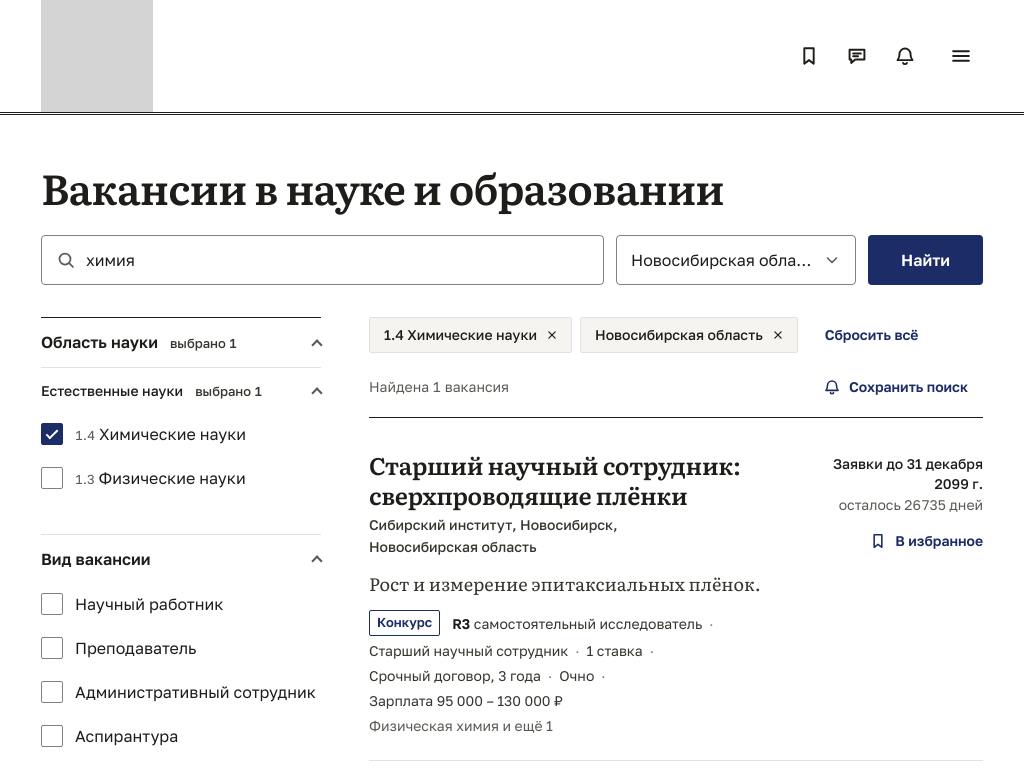
Test case: save search button › saves the conditions without the page, with the chosen name and frequency
Click the button "Сохранить поиск": (896, 387) [808,369,983,405]
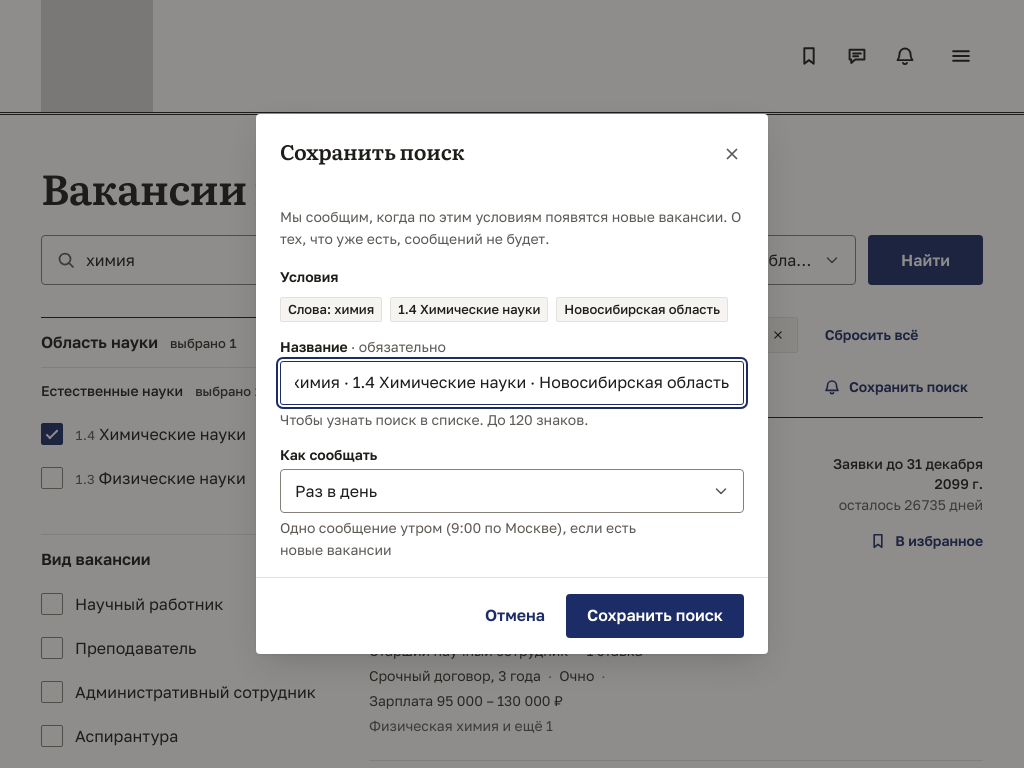
Replace the text in the field labelled "Название · обязательно" with "  Моя химия ": (512, 383) [280,361,744,405]
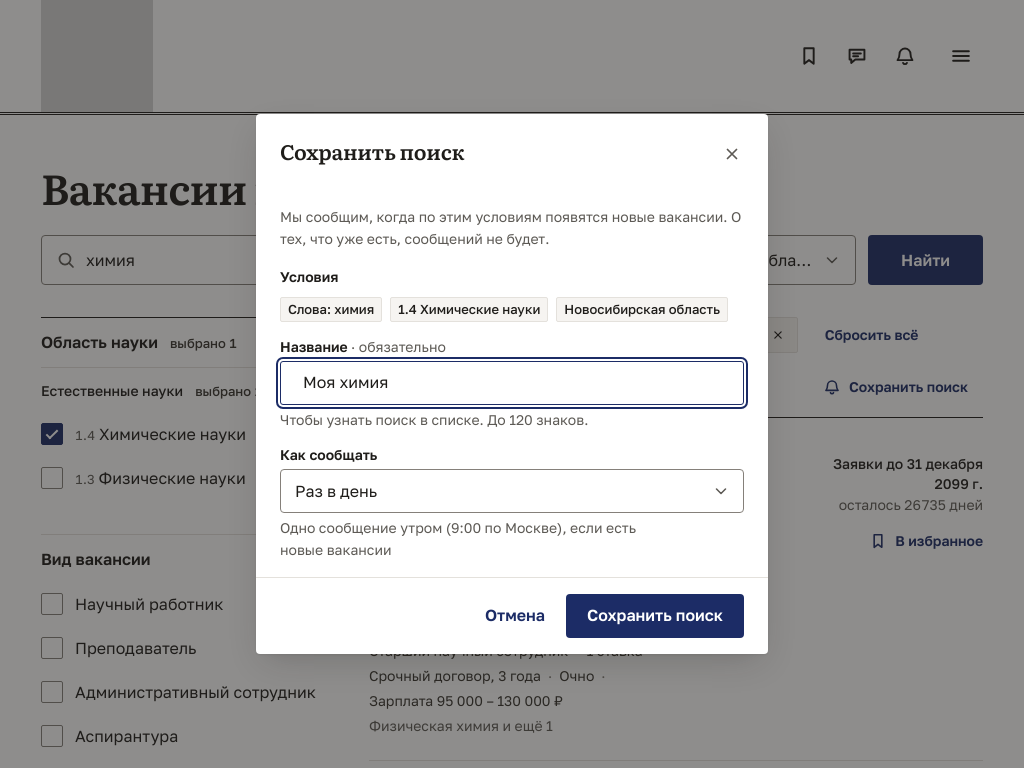
Select "Раз в неделю" in the dropdown labelled "Как сообщать": (512, 491) [280,469,744,513]
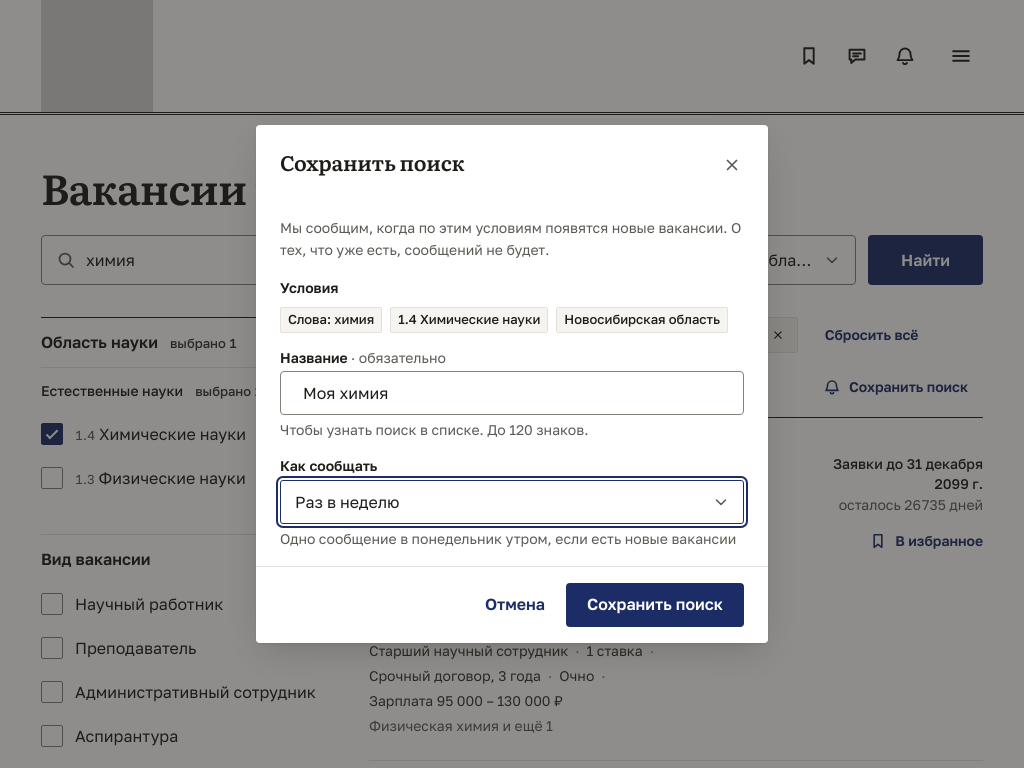
Now the text "Одно сообщение в понедельник утром, если есть новые вакансии" is shown, box [280,528,744,550]
Click the button "Сохранить поиск": (655, 605) [566,583,744,627]
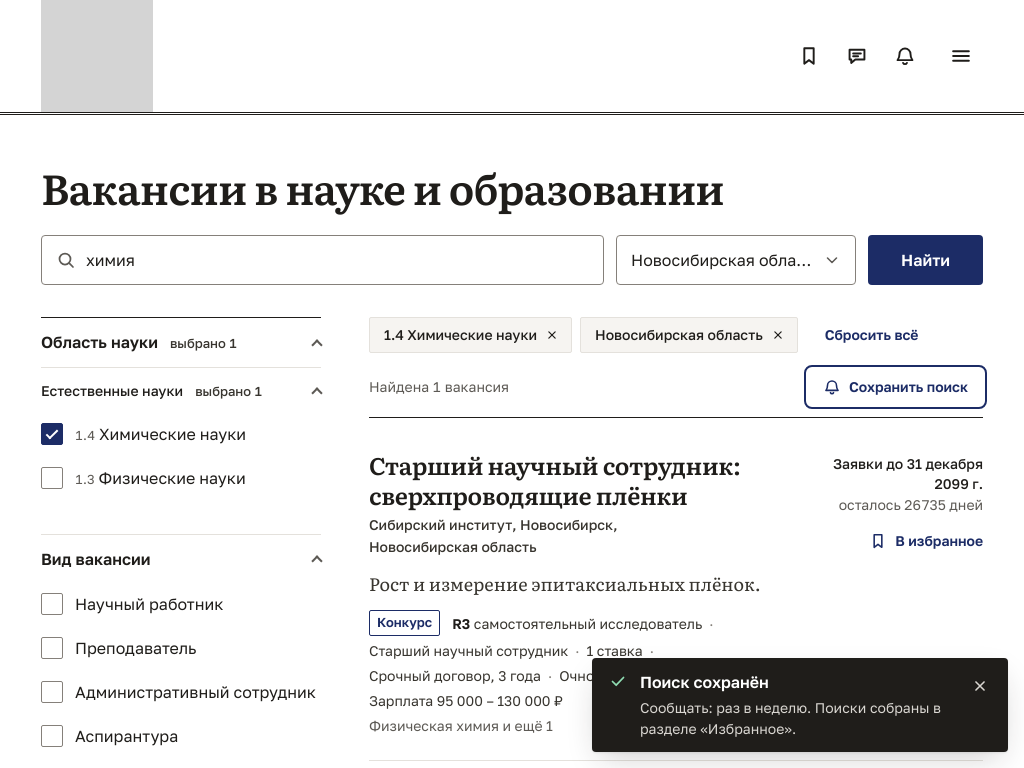
Now the text "Поиск сохранён" is shown, box [640,672,769,692]
Now the text "Сообщать: раз в неделю. Поиски собраны в разделе «Избранное»." is shown, box [640,697,952,740]
Now the dialog is gone
